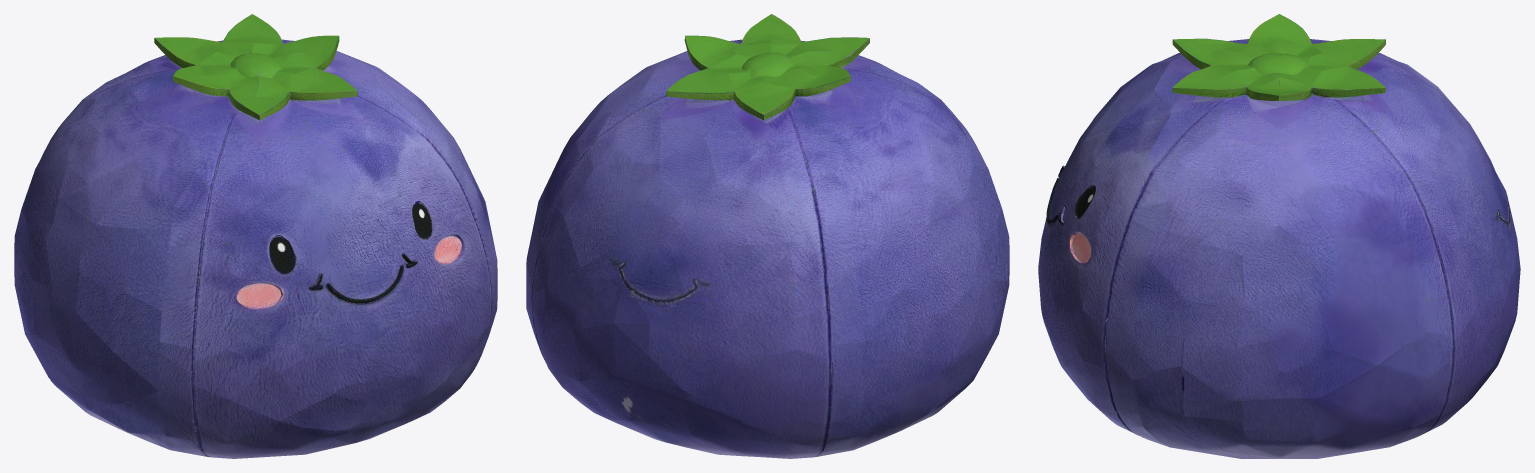
File: bplush.glb
The picture shows the model from 3 angles, left to right: view 1: azimuth 30°, elevation 25°; view 2: azimuth 150°, elevation 25°; view 3: azimuth 270°, elevation 25°; orthographic projection.
Bounding box in the file's own units: 1.9 × 1.55 × 1.9.
1 material, 1 textured.
